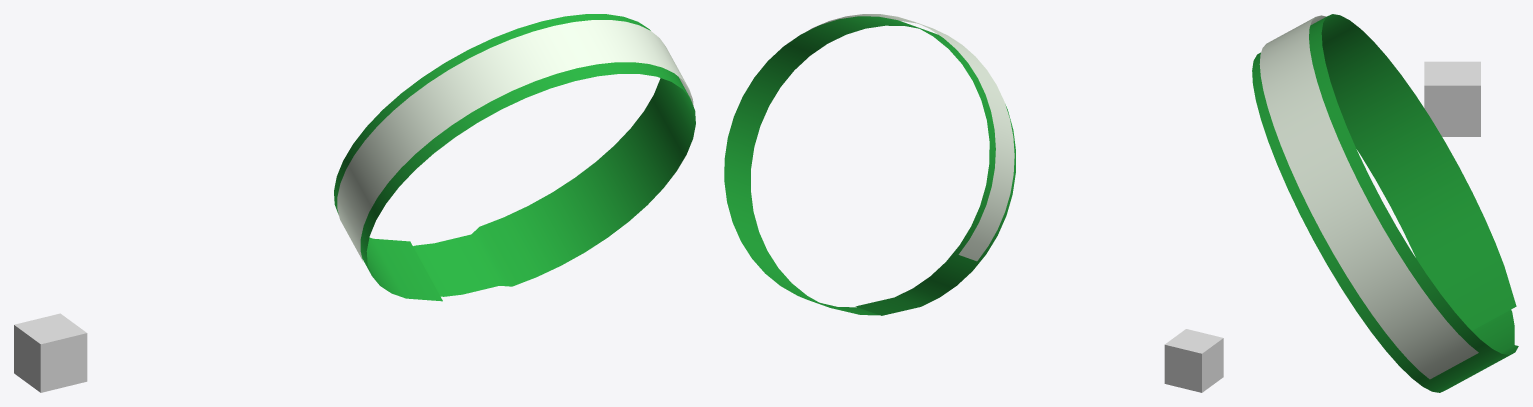
File: wristband.glb
3 renders of one model, left to right at view 1: azimuth 30°, elevation 25°; view 2: azimuth 150°, elevation 25°; view 3: azimuth 270°, elevation 25°, orthographic. The views are drawn at different scales.
Parts seen in each view (by area): view 1: mainarea, printarea, Cube; view 2: mainarea, printarea, Cube; view 3: mainarea, printarea, Cube.
Boxes of the visible parts, x1,y1,x2,y2 form: mainarea: [334, 14, 695, 301]; printarea: [337, 20, 693, 260]; Cube: [14, 313, 87, 392]; mainarea: [724, 16, 1015, 315]; printarea: [806, 14, 1014, 261]; Cube: [1164, 329, 1223, 392]; mainarea: [1252, 14, 1518, 392]; printarea: [1259, 15, 1478, 379]; Cube: [1424, 61, 1480, 136].
Size of the model in its own units: 4.66 by 2.29 by 1.65.
